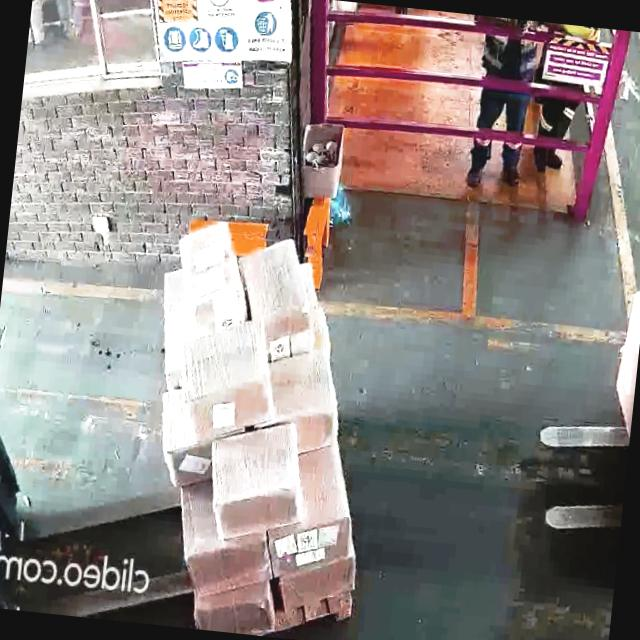Box: (174, 316, 276, 430), (205, 424, 306, 538), (164, 215, 256, 326), (266, 343, 339, 445), (179, 528, 269, 606), (246, 235, 308, 339), (268, 504, 355, 575), (282, 548, 359, 626), (196, 582, 274, 636)
